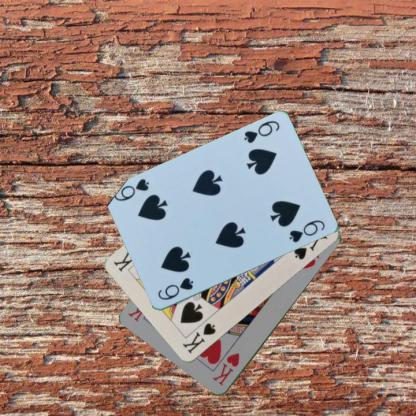6s: (155, 275, 195, 302), (241, 118, 281, 145)
Kh: (210, 350, 241, 388)
Ks: (180, 321, 217, 355)
